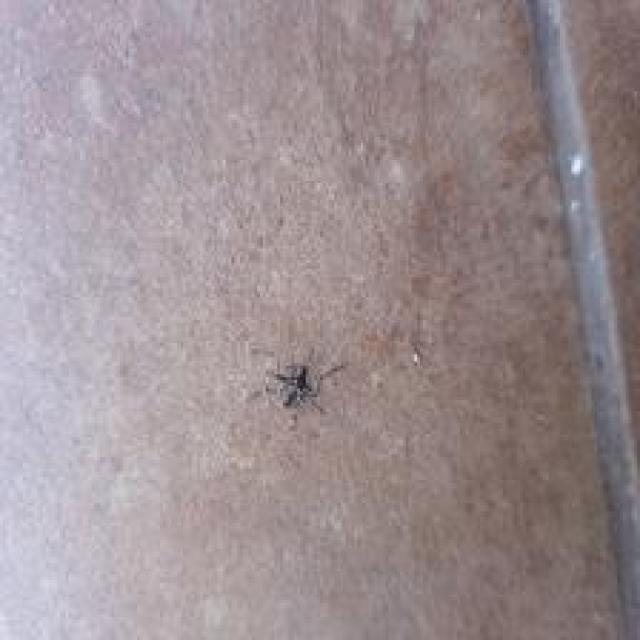Aedes albopictus: (253, 346, 347, 426)
